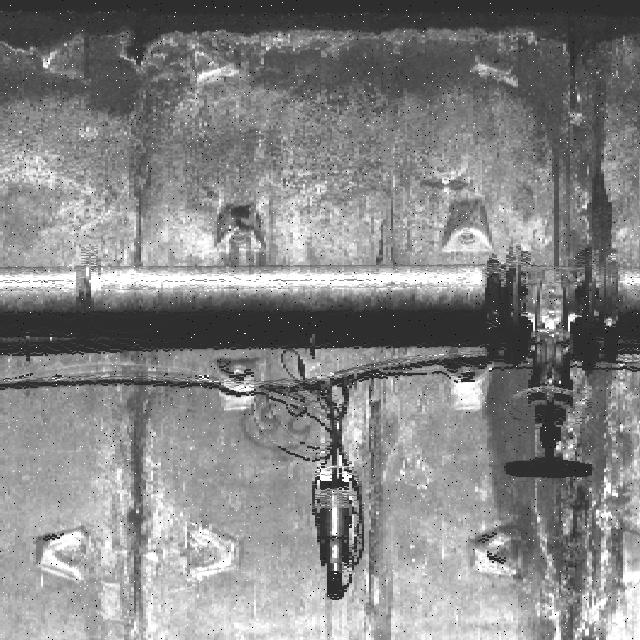leakage: (0, 0, 635, 90), (476, 360, 638, 639), (90, 352, 169, 639), (574, 139, 617, 247)
